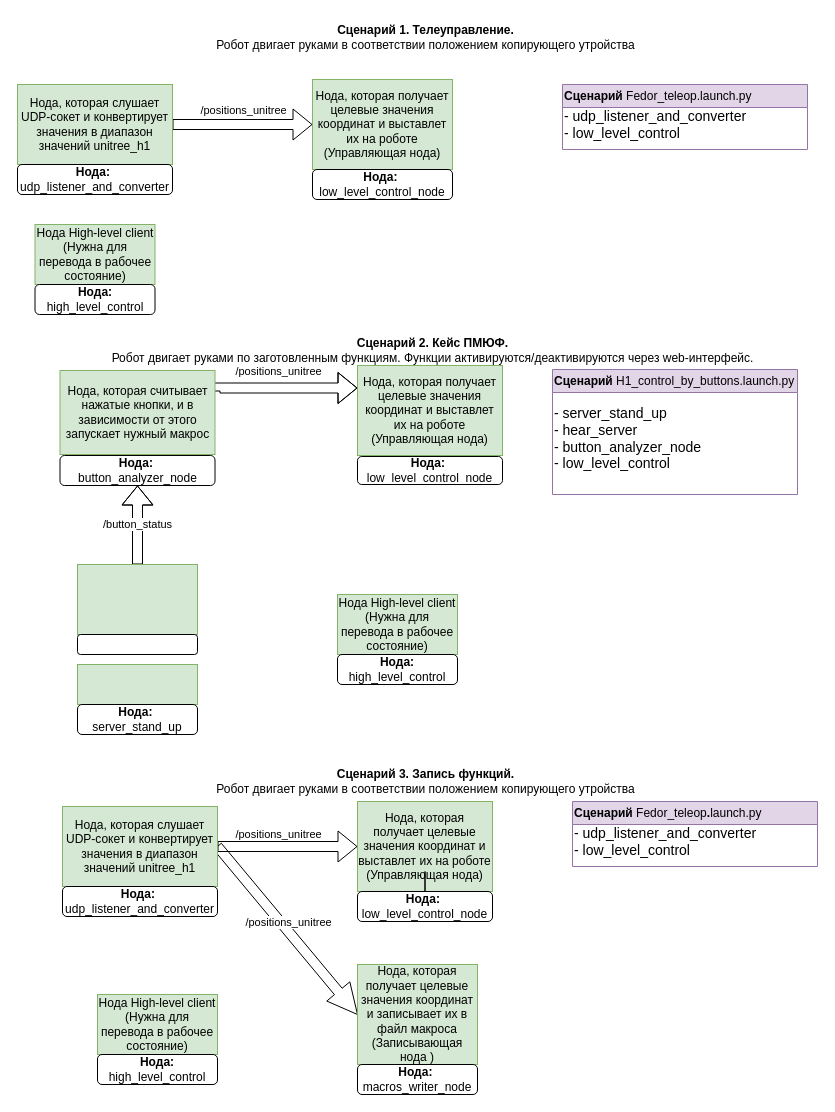
Image size: 835x1112. Some labels were removed from this diagram. The centre of each missing label's shape, as x and y in pixels:
"Нода, которая получает через API информацию о стоянии кнопок и публикует её" belongs at (137,599).
"Нода: hear_server" belongs at (137,644).
"Скрипт, поднимающий сайт" belongs at (137,684).
